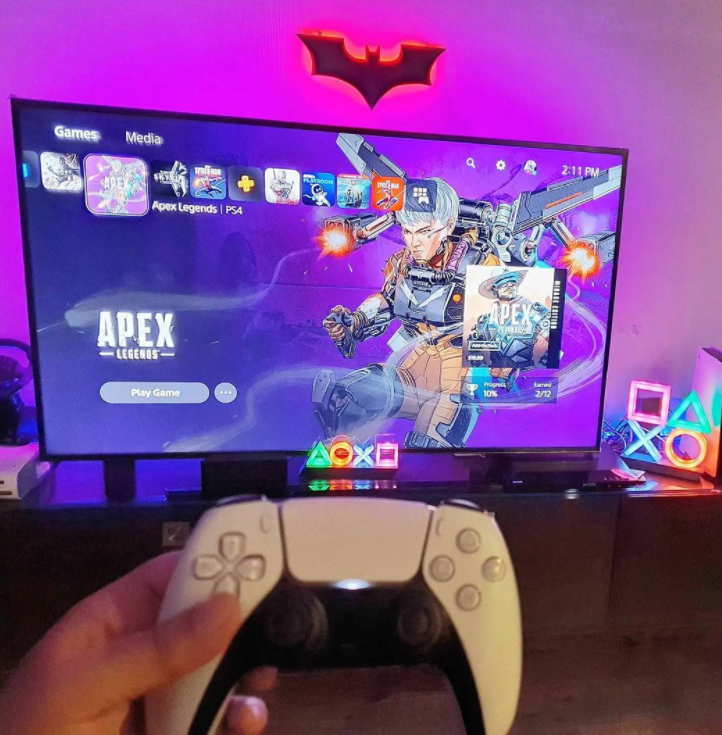gamingconsole: (153, 494, 517, 735)
